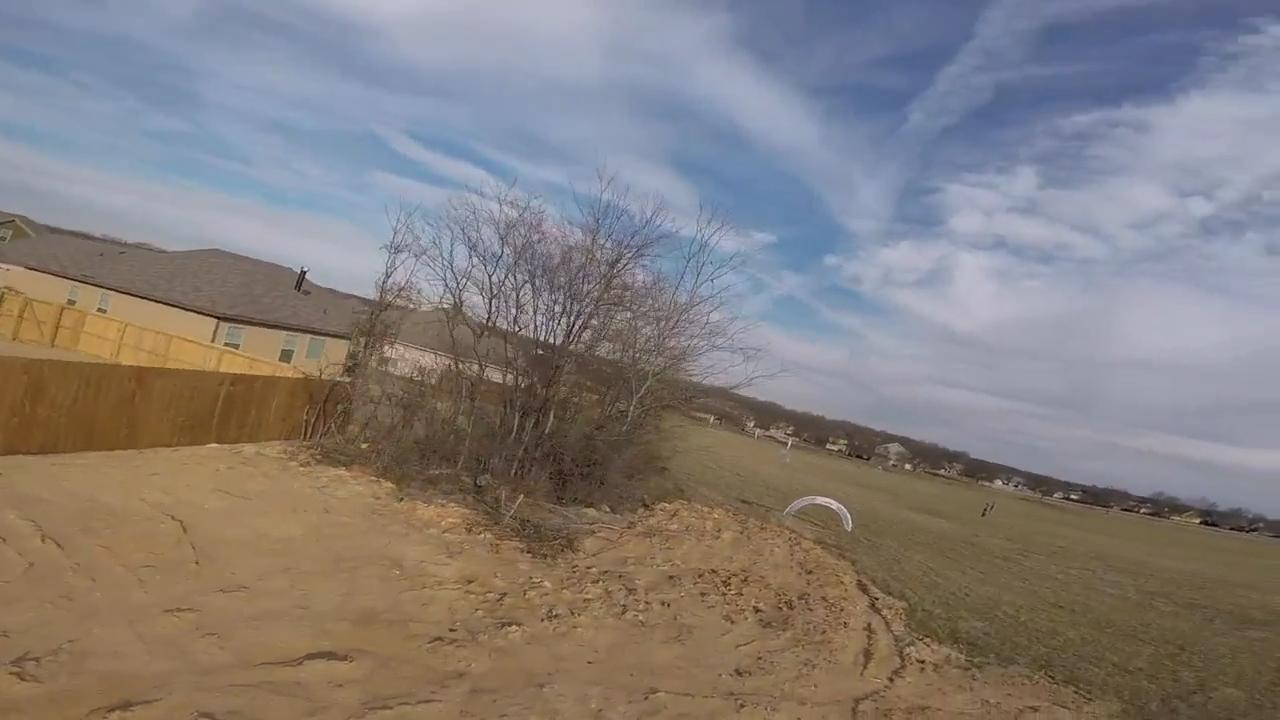gate: (783, 493, 854, 544)
